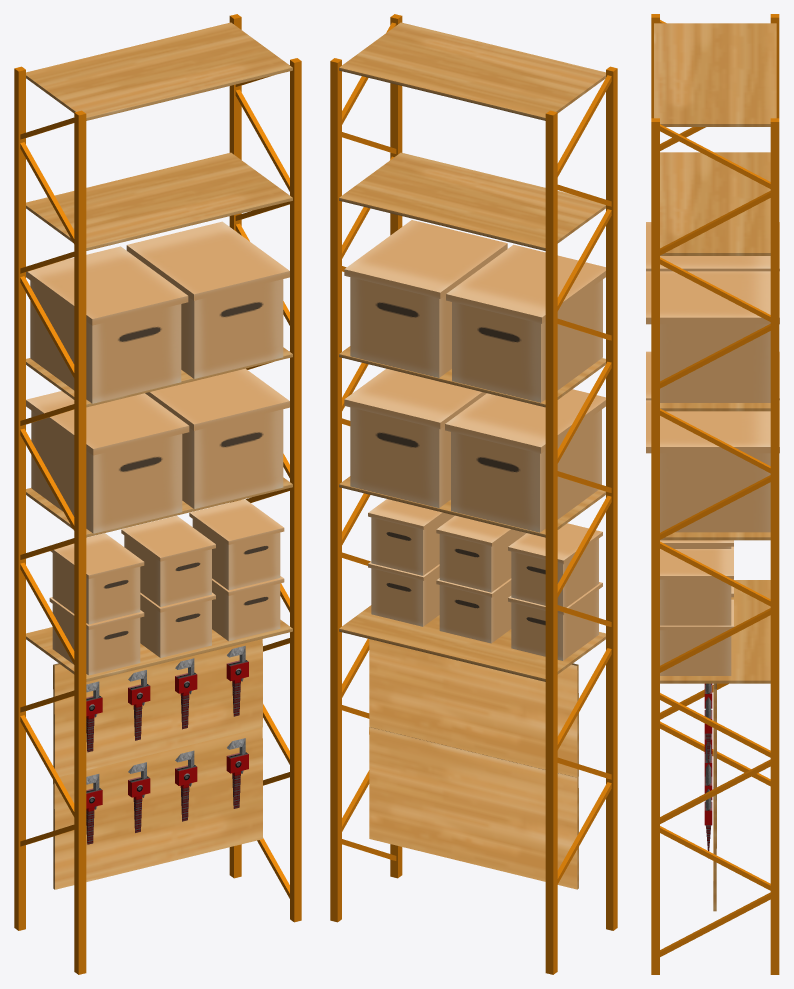
File: Wrench_Rack.fbx
The picture shows the model from 3 angles, left to right: view 1: azimuth 30°, elevation 25°; view 2: azimuth 150°, elevation 25°; view 3: azimuth 270°, elevation 25°; orthographic projection.
Parts seen in each view (by area): view 1: Wrench_Rack; view 2: Wrench_Rack; view 3: Wrench_Rack.
Boxes of the visible parts, left/top/right/bottom form: Wrench_Rack: left=14, top=14, right=301, bottom=974; Wrench_Rack: left=330, top=14, right=617, bottom=974; Wrench_Rack: left=646, top=14, right=779, bottom=974.
Bounding box in the file's own units: 2 × 7.37 × 1.05.
